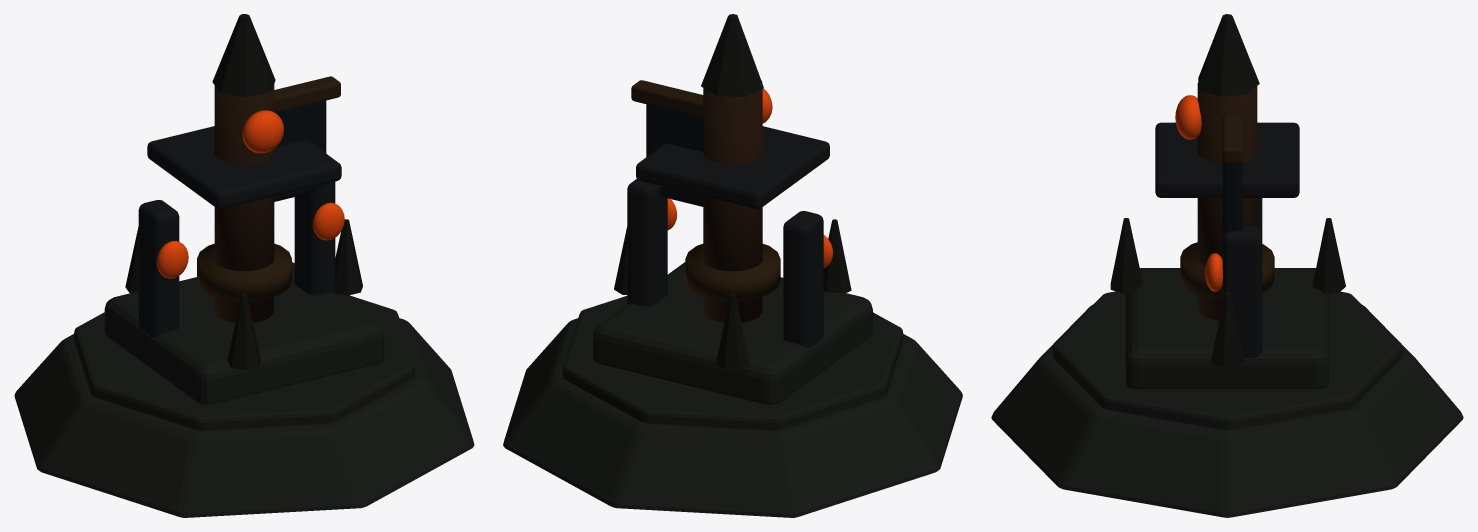
File: TowerAura3.obj
The picture shows the model from 3 angles, left to right: view 1: azimuth 30°, elevation 25°; view 2: azimuth 150°, elevation 25°; view 3: azimuth 270°, elevation 25°; orthographic projection.
Parts seen in each view (by area): view 1: circular_stone_dais_lower_course, carved_stone_root, circular_stone_dais_upper_course, iron_signal_ring, oak_banner_mast, iron_ritual_pillar, iron_ritual_pillar.001, bronze_mast_collar, banner_apex, dark_command_banner, bone_command_ward.002, bronze_banner_bar (+5 smaller); view 2: circular_stone_dais_lower_course, carved_stone_root, circular_stone_dais_upper_course, oak_banner_mast, iron_signal_ring, iron_ritual_pillar, iron_ritual_pillar.001, bronze_mast_collar, banner_apex, dark_command_banner, bronze_banner_bar, bone_command_ward.001 (+2 smaller); view 3: circular_stone_dais_lower_course, circular_stone_dais_upper_course, carved_stone_root, iron_signal_ring, oak_banner_mast, iron_ritual_pillar.001, banner_apex, bronze_mast_collar, bone_command_ward, bone_command_ward.002, bone_command_ward.001, dark_command_banner (+3 smaller).
Part boxes in pixels (<box>): circular_stone_dais_lower_course: <box>14,318,474,517</box>; carved_stone_root: <box>104,262,384,404</box>; circular_stone_dais_upper_course: <box>74,294,414,430</box>; iron_signal_ring: <box>147,126,341,209</box>; oak_banner_mast: <box>214,84,274,322</box>; iron_ritual_pillar: <box>138,200,179,337</box>; iron_ritual_pillar.001: <box>294,181,335,295</box>; bronze_mast_collar: <box>197,243,291,301</box>; banner_apex: <box>212,14,275,97</box>; dark_command_banner: <box>274,100,326,201</box>; bone_command_ward.002: <box>227,293,260,370</box>; bronze_banner_bar: <box>274,76,340,112</box>; circular_stone_dais_lower_course: <box>503,318,962,517</box>; carved_stone_root: <box>593,262,872,404</box>; circular_stone_dais_upper_course: <box>562,296,903,430</box>; oak_banner_mast: <box>703,80,762,322</box>; iron_signal_ring: <box>636,126,829,209</box>; iron_ritual_pillar: <box>783,211,823,348</box>; iron_ritual_pillar.001: <box>627,179,667,306</box>; bronze_mast_collar: <box>685,244,780,301</box>; banner_apex: <box>701,14,763,96</box>; dark_command_banner: <box>646,104,703,206</box>; bronze_banner_bar: <box>631,80,703,116</box>; bone_command_ward.001: <box>715,294,749,369</box>; circular_stone_dais_lower_course: <box>991,305,1463,517</box>; circular_stone_dais_upper_course: <box>1052,291,1402,429</box>; carved_stone_root: <box>1125,268,1329,389</box>; iron_signal_ring: <box>1155,122,1299,197</box>; oak_banner_mast: <box>1197,83,1257,320</box>; iron_ritual_pillar.001: <box>1222,226,1262,357</box>; banner_apex: <box>1198,14,1259,96</box>; bronze_mast_collar: <box>1180,242,1274,299</box>; bone_command_ward: <box>1211,292,1244,367</box>; bone_command_ward.002: <box>1110,218,1142,293</box>; bone_command_ward.001: <box>1313,218,1345,293</box>; dark_command_banner: <box>1222,161,1242,234</box>.
Size of the model in its own units: 1.9 by 1.79 by 1.9.
